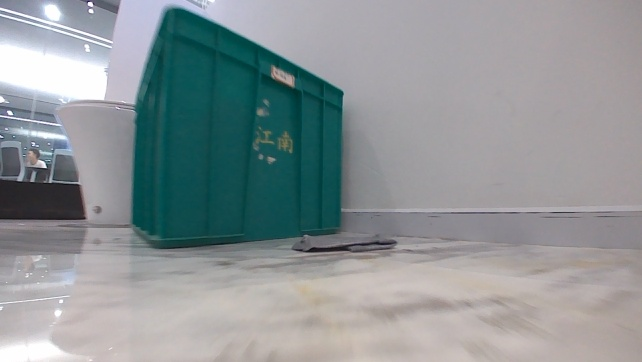socks: (290, 229, 398, 255)
toilet: (54, 97, 136, 228)
